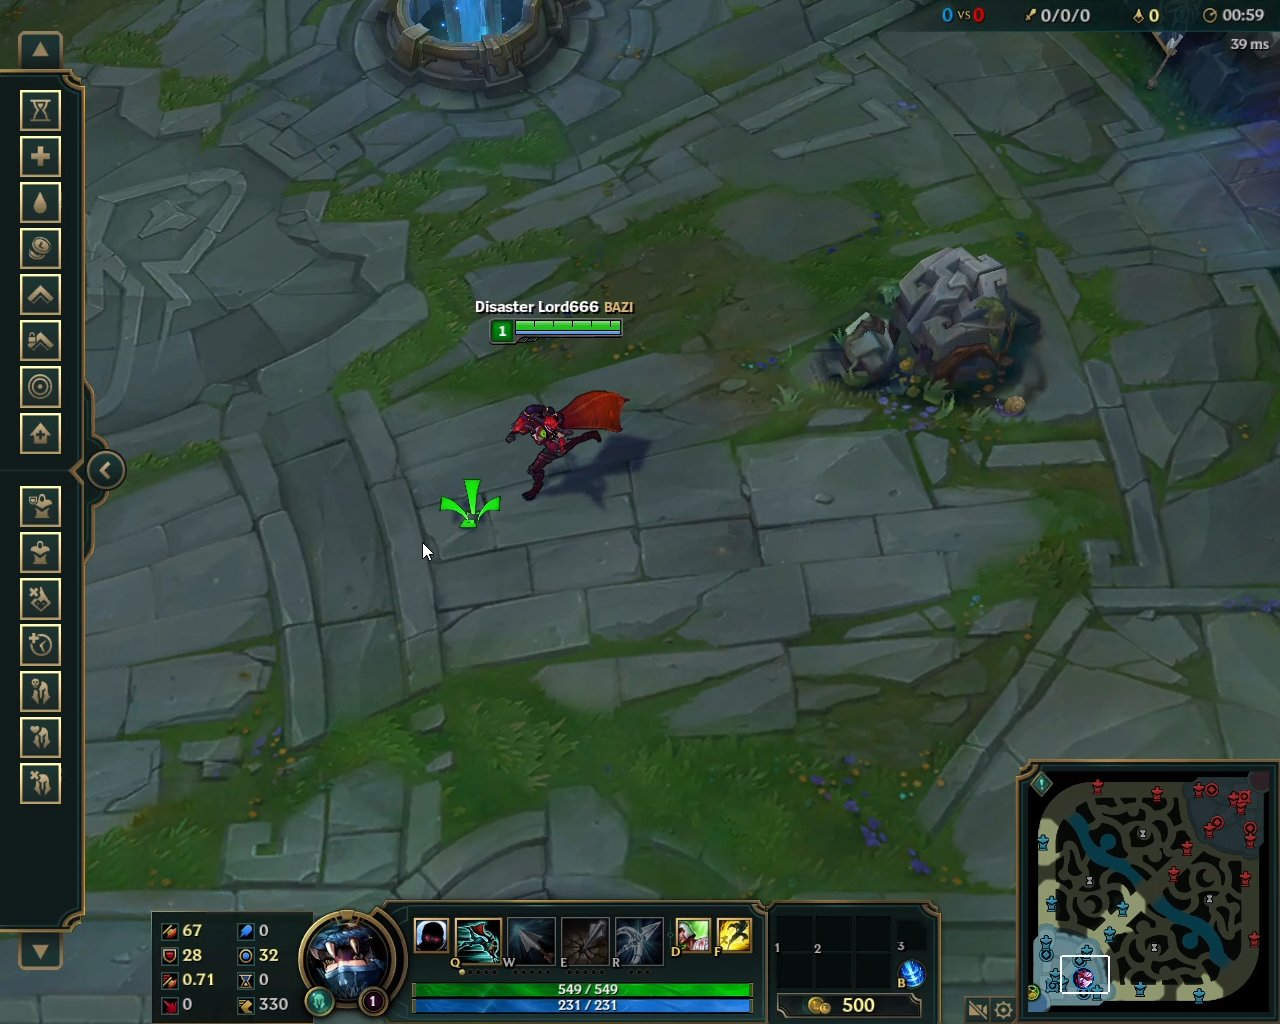Vayne: (498, 382, 633, 508)
